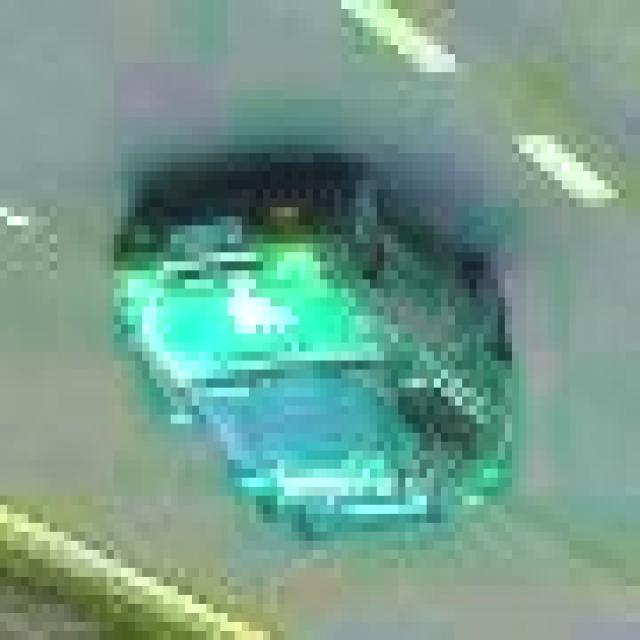green: (114, 162, 526, 532)
